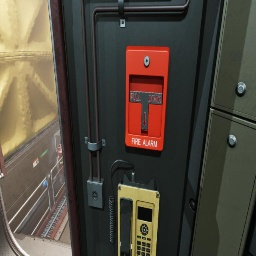EmergencyPhone ,: (109, 160, 160, 256)
FireAlarm ,: (125, 46, 170, 151)
NitrogenTank ,: (57, 144, 65, 184)
